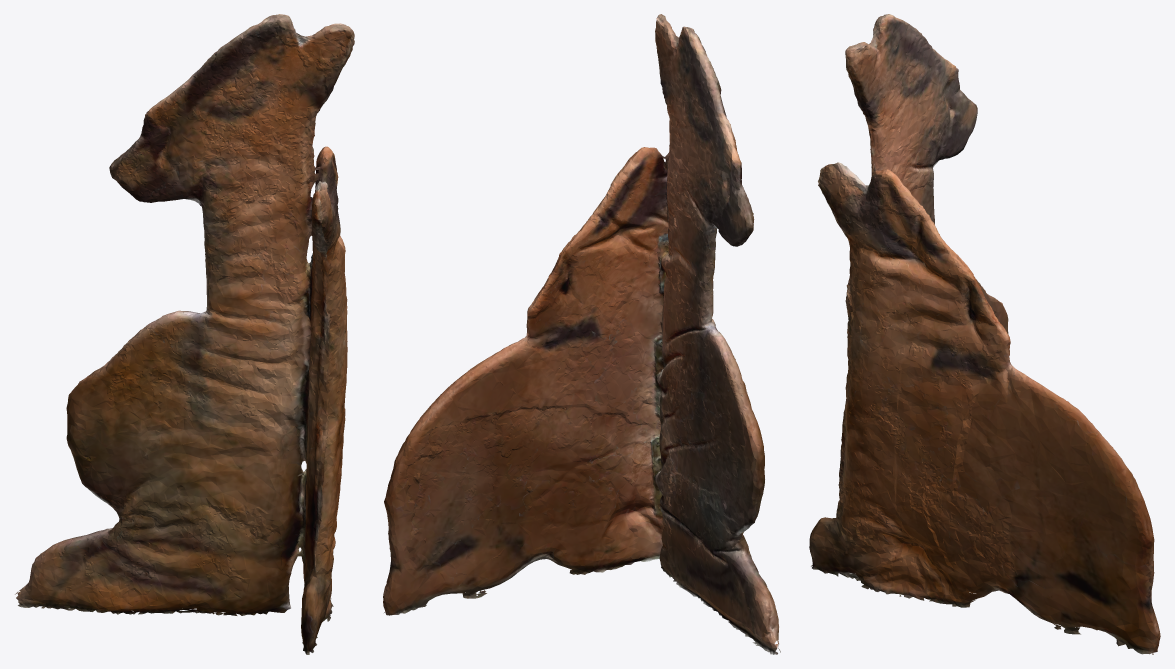
File: escultura-web.glb
3 renders of one model, left to right at view 1: azimuth 30°, elevation 25°; view 2: azimuth 150°, elevation 25°; view 3: azimuth 270°, elevation 25°, orthographic. The views are drawn at different scales.
Bounding box in the file's own units: 0.5314 × 0.805 × 0.4603.
Materials: 1 (1 with a texture image).
